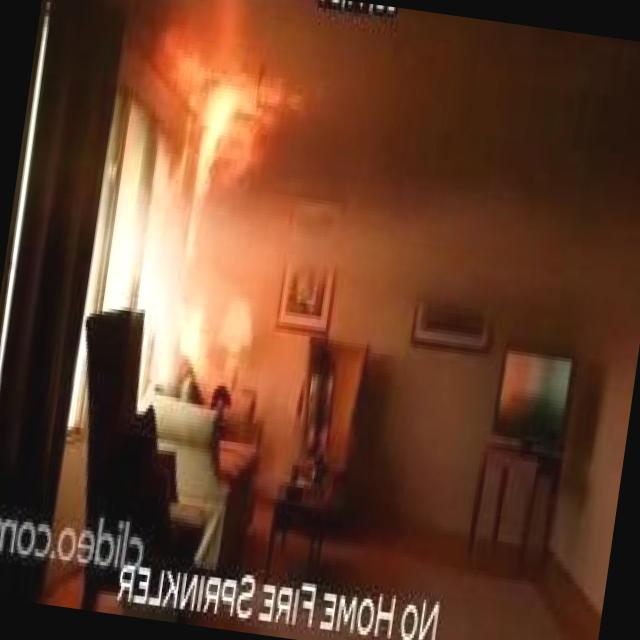fire: (106, 0, 316, 389)
